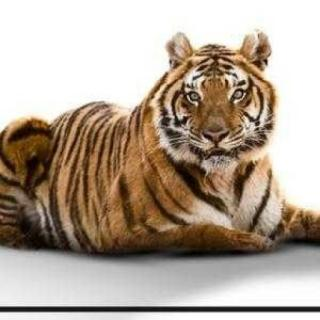Tiger: (0, 18, 319, 266)
